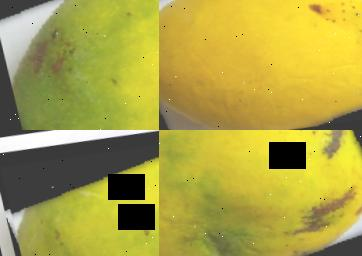PartiallyRipe: (0, 0, 159, 130), (0, 130, 159, 256)
Ripe: (159, 0, 362, 130), (159, 130, 362, 256)
